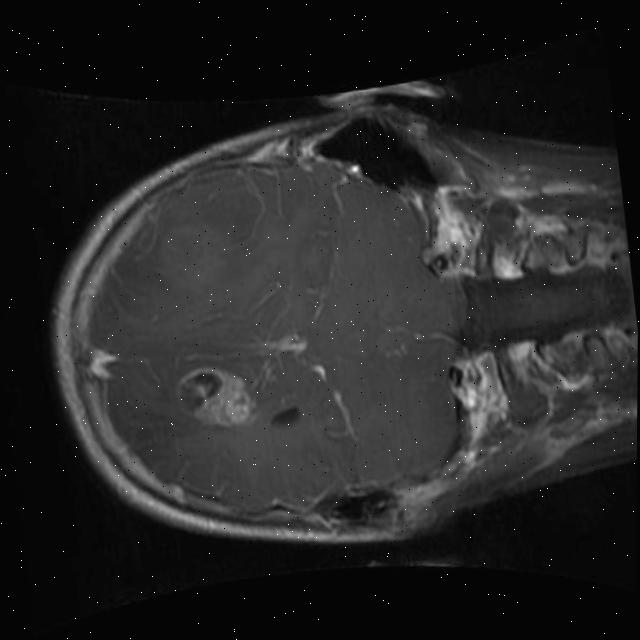Glioma: (172, 359, 257, 434)
